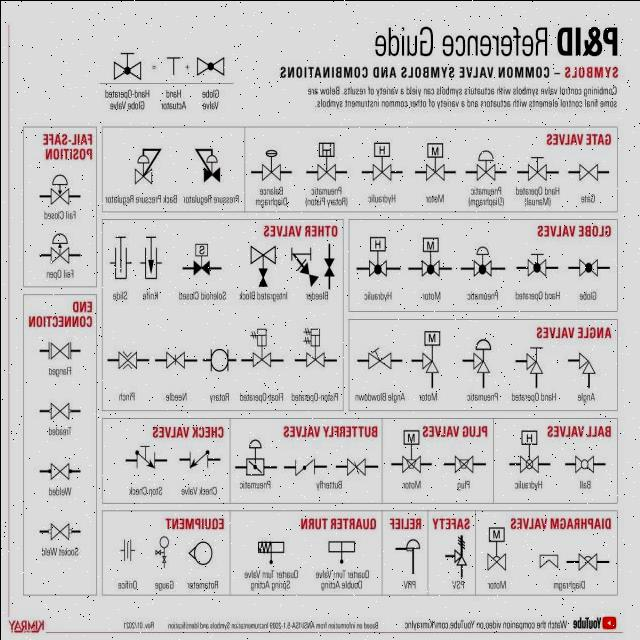Angle Blowdown: (364, 336, 397, 371)
Angle Valve: (570, 346, 602, 381)
BackPressure Regulator: (126, 138, 172, 185)
Balance Diaphragm Gate Valve: (256, 142, 284, 185)
Ball Valve: (570, 449, 597, 475)
Bleeder Valve: (286, 238, 318, 288), (322, 240, 341, 289)
Butterfly Valve: (292, 452, 324, 478), (343, 451, 373, 476)
Check Valve: (182, 446, 215, 470)
Diaphragm Valve: (569, 540, 613, 570), (532, 546, 564, 572)
Fail Closed Safe Position: (38, 167, 82, 209)
Fail Open Safe Position: (46, 226, 78, 266)
Flanged: (42, 336, 78, 359)
Float Operated Valve: (245, 325, 283, 367)
Gate Valve: (574, 153, 603, 184)
Gauge: (152, 532, 175, 568)
Globe Valve: (193, 52, 230, 77), (574, 249, 604, 278)
Hand Operated Angle Valve: (520, 341, 546, 384)
Hand Operated Gate Valve: (524, 149, 552, 182)
Hand Operated Globe Valve: (108, 37, 146, 79), (522, 243, 554, 279)
Hydraulic Operated Ball Valve: (514, 424, 544, 474)
Hydraulic Operated Gate Valve: (366, 136, 398, 182)
Hydraulic Operated Globe Valve: (362, 231, 394, 280)
Integrated Block Valve: (240, 240, 280, 289)
Knife Valve: (136, 225, 168, 284)
Motor Operated Angle Valve: (409, 320, 456, 388)
Motor Operated Diaphragm Valve: (484, 517, 506, 575)
Motor Operated Gate Valve: (422, 136, 449, 182)
Motor Operated Globe Valve: (418, 230, 444, 278)
Motor Operated Plug Valve: (397, 424, 421, 478)
Needle Valve: (162, 342, 190, 374)
Orifice: (114, 526, 142, 566)
PRV: (392, 534, 424, 576)
PSV: (442, 530, 470, 576)
Pinch Valve: (110, 344, 146, 374)
Piston Operated Valve: (300, 317, 333, 373)
Plug Valve: (452, 449, 480, 475)
Pneumatic-Diaphragm Angle Valve: (466, 332, 502, 386)
Pneumatic-Diaphragm Butterfly Valve: (240, 434, 270, 477)
Pneumatic-Diaphragm Gate Valve: (471, 140, 504, 182)
Pneumatic-Diaphragm Globe Valve: (468, 238, 496, 280)
Pressure Regulator: (186, 138, 226, 185)
Quarter Turn Valve Double Acting: (324, 534, 359, 564)
Quarter Turn Valve Spring Acting: (246, 533, 294, 567)
Rotameter: (179, 533, 217, 569)
Rotary Piston-Pneumatic Gate Valve: (306, 137, 344, 183)
Rotary Valve: (200, 337, 242, 375)
Slide Valve: (108, 223, 138, 283)
Socket Weld: (41, 514, 79, 544)
Solenoid Closed Valve: (180, 232, 230, 280)
Stop Valve: (134, 439, 162, 472)
Treaded: (44, 392, 80, 422)
Welded: (44, 454, 72, 482)
